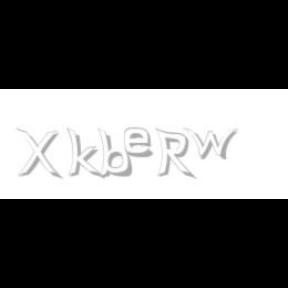R: (155, 128, 193, 180)
X: (16, 128, 60, 180)
b: (97, 128, 135, 178)
e: (124, 128, 158, 158)
k: (66, 128, 104, 180)
w: (184, 128, 243, 160)
